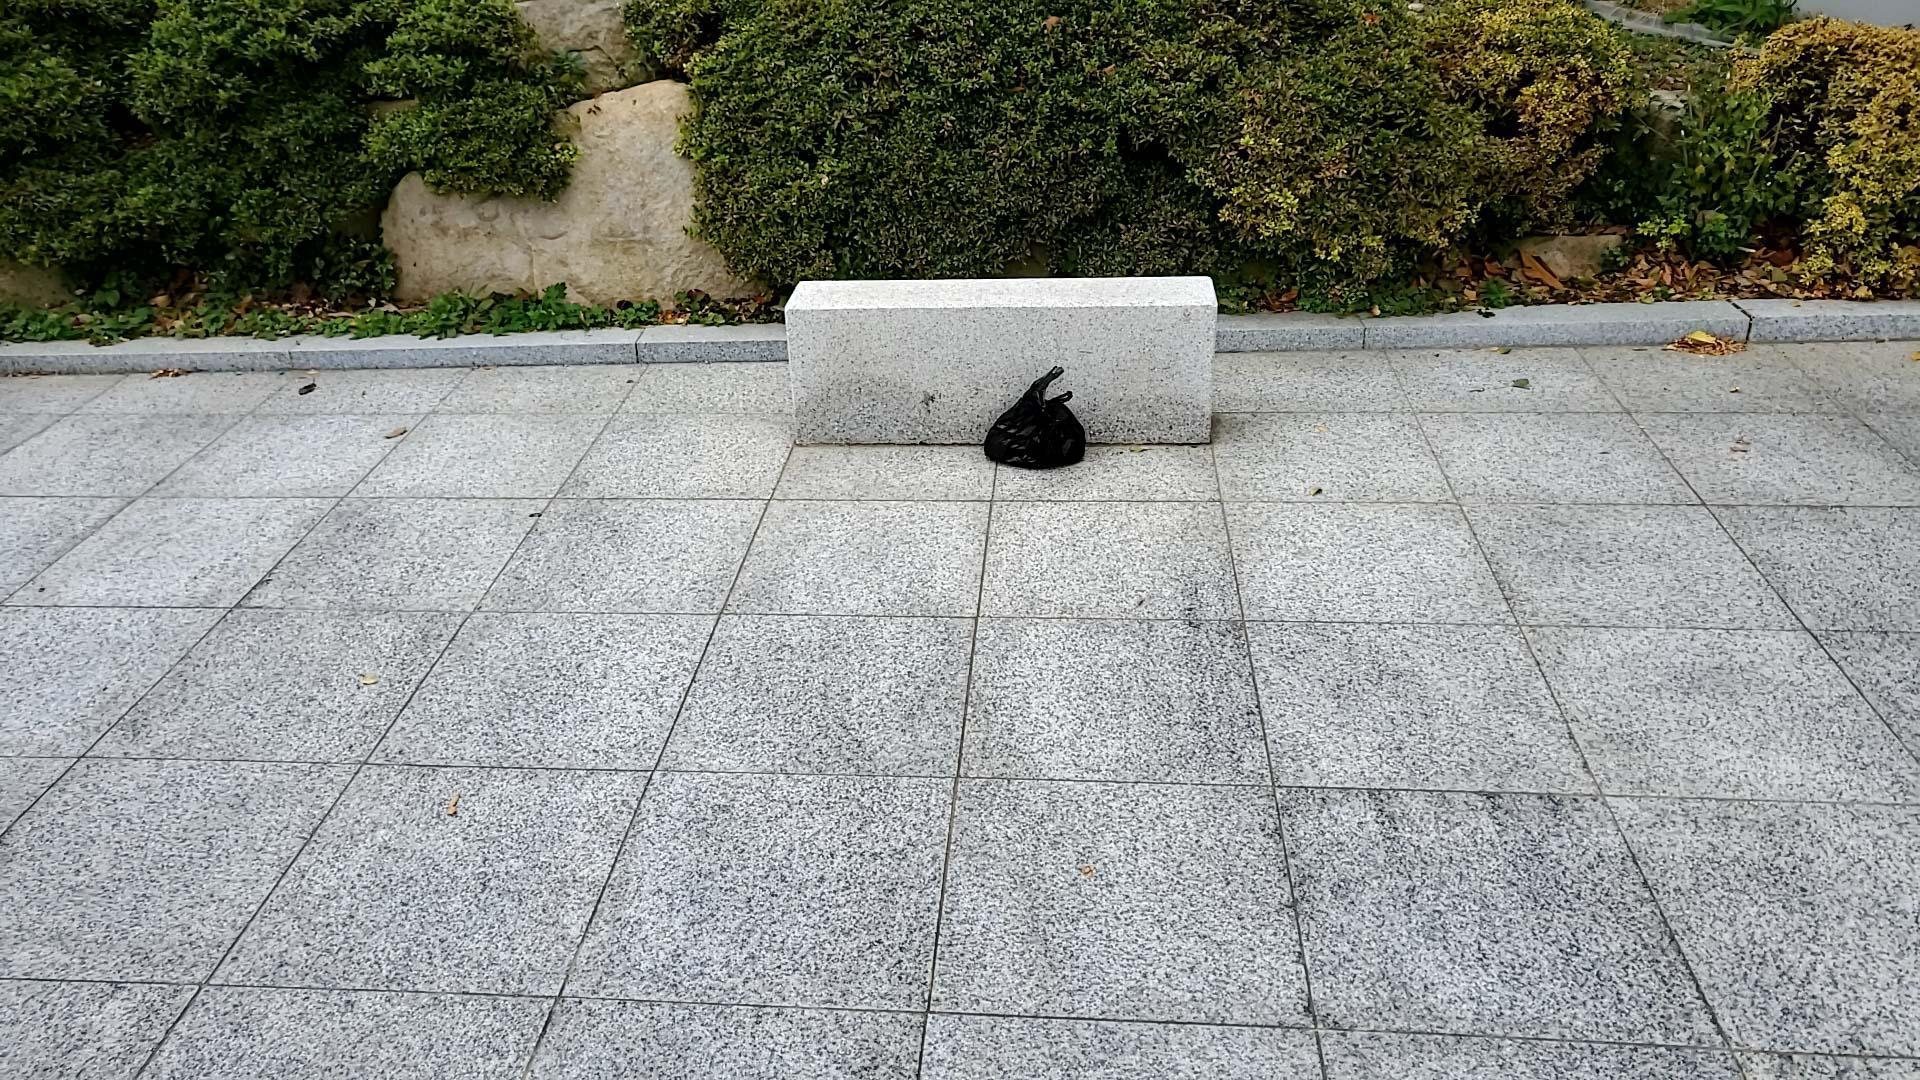black_bag: (973, 349, 1101, 481)
